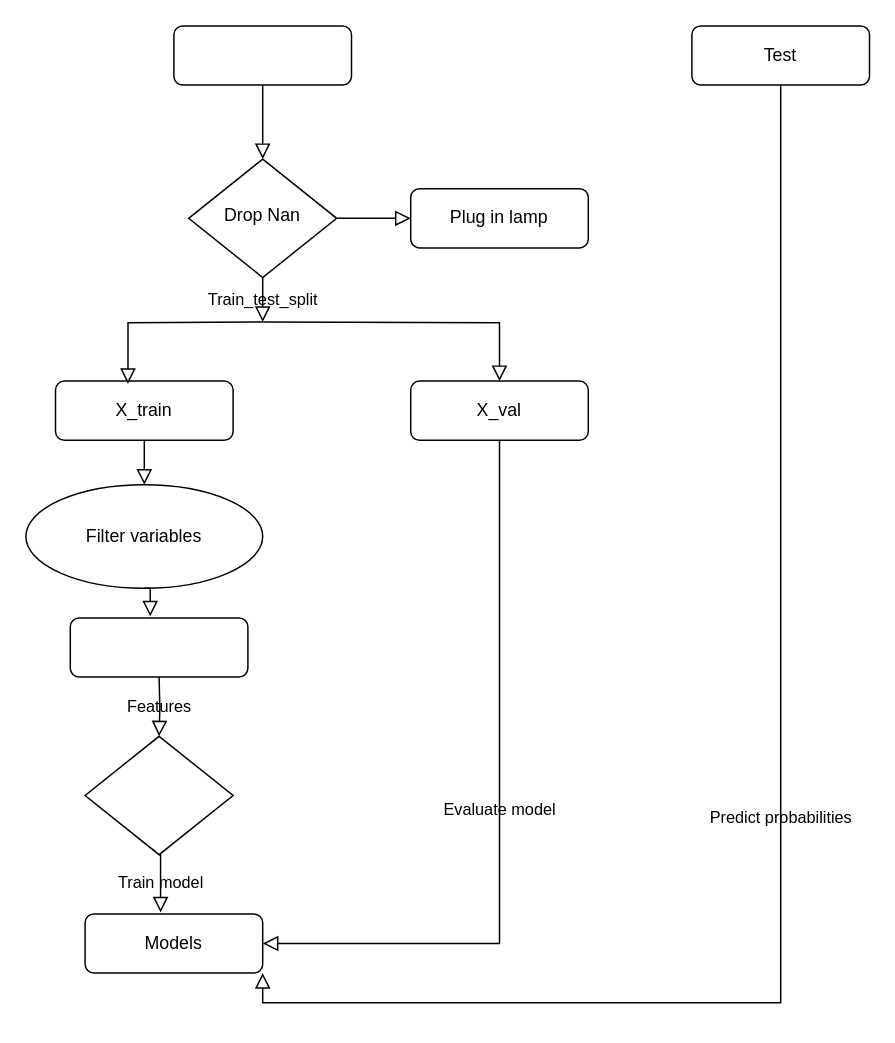
This 895x1043 diagram has some shape labels left out. Here are the shapes that lost their labels. From the top down, the centre of each, then its label:
At point 262,54: "Train".
At point 158,646: "Column selection".
At point 158,795: "Standard scaler".
